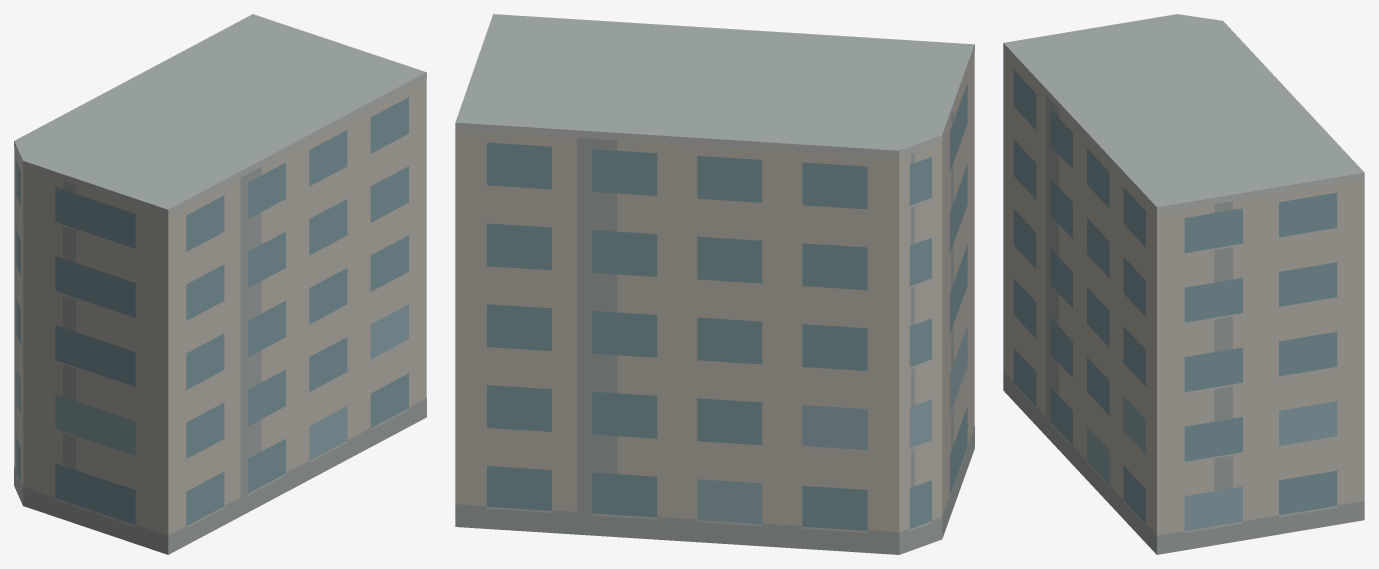
File: survey-upis-33034349.glb
3 renders of one model, left to right at view 1: azimuth 30°, elevation 25°; view 2: azimuth 150°, elevation 25°; view 3: azimuth 270°, elevation 25°, orthographic. The views are drawn at different scales.
Visible parts, largest first — view 1: survey-upis-33034349.tmp; view 2: survey-upis-33034349.tmp; view 3: survey-upis-33034349.tmp.
Boxes of the visible parts, x1=… form: survey-upis-33034349.tmp: x1=14, y1=14, x2=426, y2=554; survey-upis-33034349.tmp: x1=455, y1=14, x2=974, y2=554; survey-upis-33034349.tmp: x1=1003, y1=14, x2=1364, y2=554.
Bounding box in the file's own units: 15.76 × 13.2 × 12.45.
